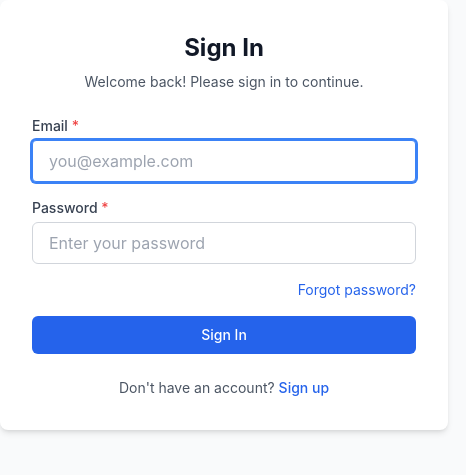
Test case: SignInForm Component › Form Validation › should show error when password is empty
The width and height of the screenshot is (466, 475).
Type "test@example.com" into the field labelled "Email *".
click(224, 161); type("test@example.com")  # box left=32, top=140, right=416, bottom=182
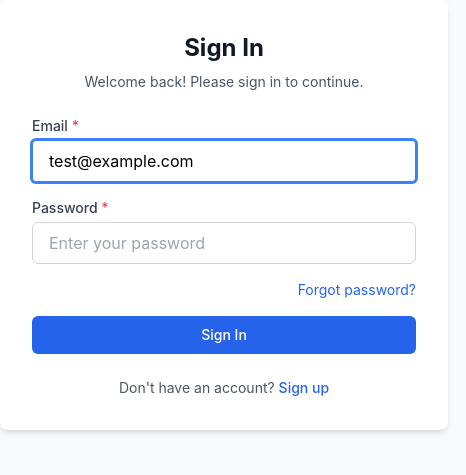
Click the button "Sign In".
click(224, 335)  # box left=32, top=316, right=416, bottom=354
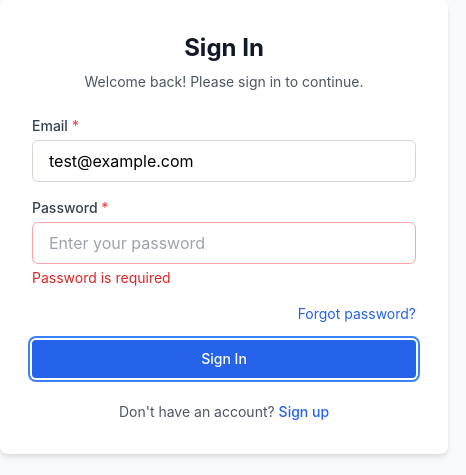
Result: the text "Password is required" is shown at left=32, top=269, right=171, bottom=286
